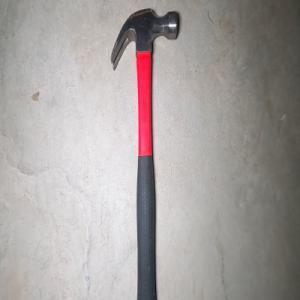Hammer: (109, 7, 178, 300)
